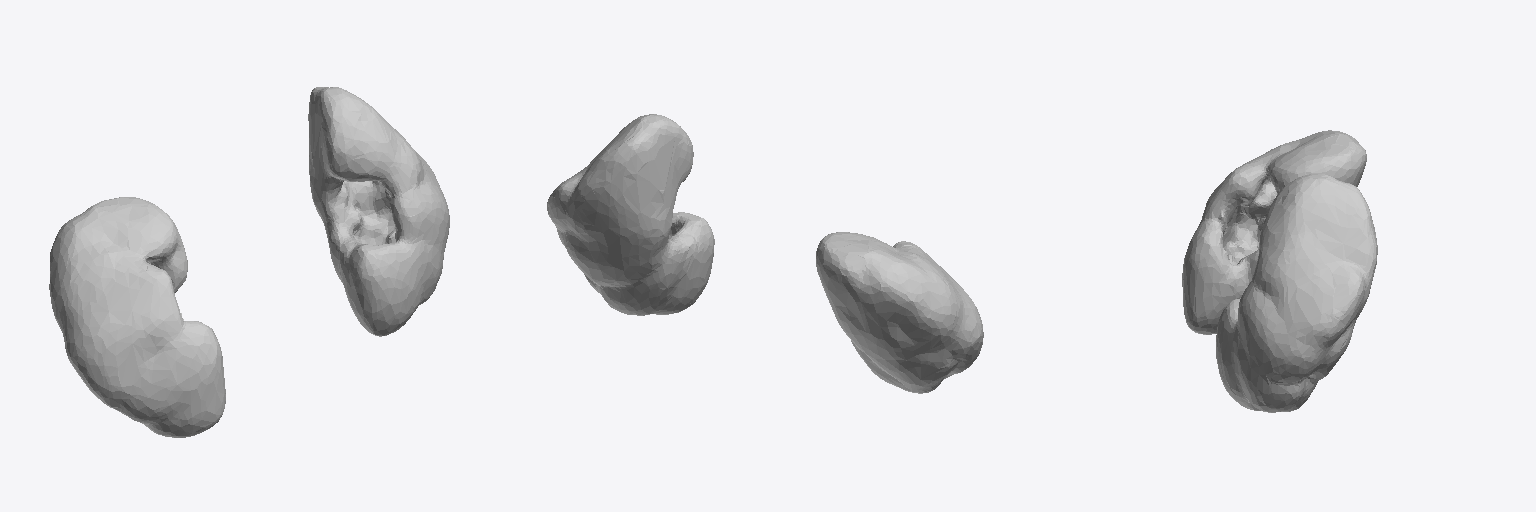
3 renders of one model, left to right at view 1: azimuth 30°, elevation 25°; view 2: azimuth 150°, elevation 25°; view 3: azimuth 270°, elevation 25°, orthographic.
Parts seen in each view (by area): view 1: Polygonal_Model_5_Triangles_0; view 2: Polygonal_Model_5_Triangles_0; view 3: Polygonal_Model_5_Triangles_0.
Boxes of the visible parts, box(x1,y1,x2,y2) form: Polygonal_Model_5_Triangles_0: box(49, 87, 449, 437); Polygonal_Model_5_Triangles_0: box(547, 114, 983, 393); Polygonal_Model_5_Triangles_0: box(1182, 130, 1377, 412).
Size of the model in its own units: 8.49 by 5.23 by 3.64.